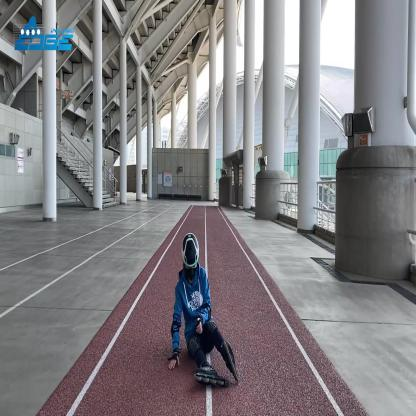Fall_Down: (168, 234, 238, 378)
